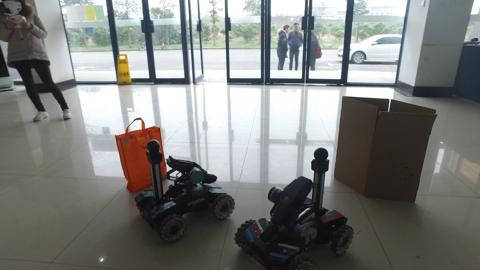bag: (114, 122, 158, 188)
box: (341, 93, 434, 205)
chariot: (238, 147, 360, 265), (135, 143, 234, 239)
